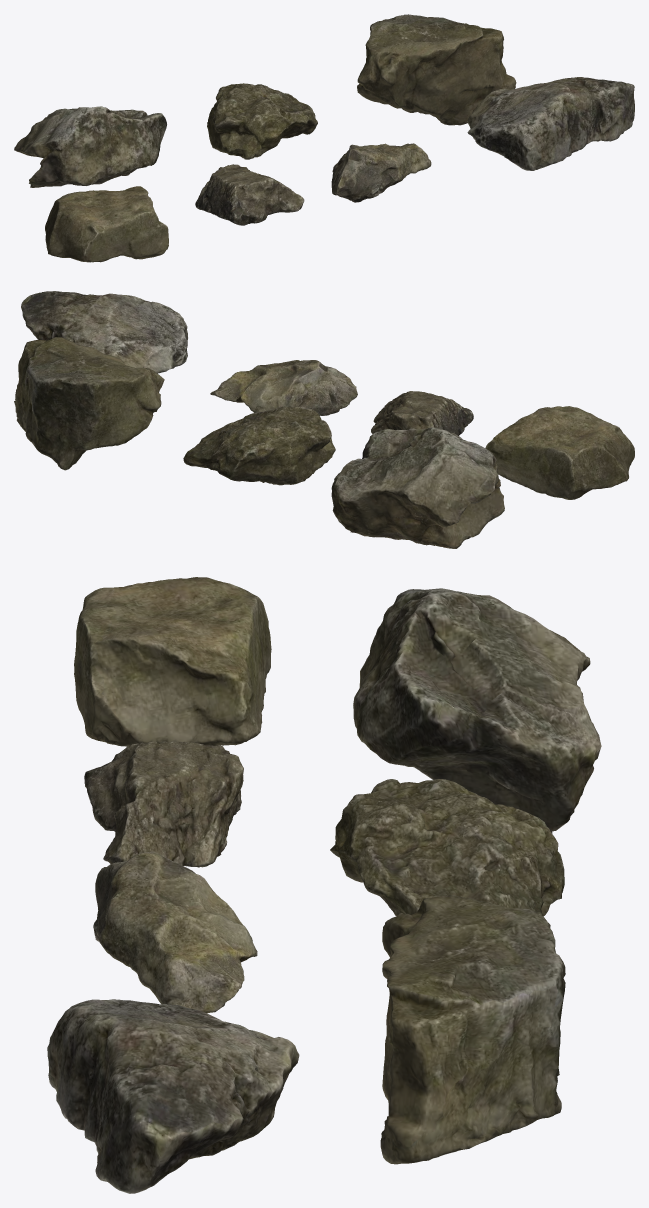
File: rock_moss_set_02.glb
3 views of the same model, one above another, from view 1: azimuth 30°, elevation 25°; view 2: azimuth 150°, elevation 25°; view 3: azimuth 270°, elevation 25° (orthographic). The views are drawn at different scales.
Parts seen in each view (by area): view 1: rock_moss_set_02_rock13, rock_moss_set_02_rock10, rock_moss_set_02_rock11, rock_moss_set_02_rock07, rock_moss_set_02_rock12, rock_moss_set_02_rock08, rock_moss_set_02_rock09; view 2: rock_moss_set_02_rock11, rock_moss_set_02_rock13, rock_moss_set_02_rock07, rock_moss_set_02_rock10, rock_moss_set_02_rock12, rock_moss_set_02_rock09, rock_moss_set_02_rock08; view 3: rock_moss_set_02_rock13, rock_moss_set_02_rock11, rock_moss_set_02_rock10, rock_moss_set_02_rock07, rock_moss_set_02_rock12, rock_moss_set_02_rock09, rock_moss_set_02_rock08.
Part boxes in pixels (x1=…): rock_moss_set_02_rock13: x1=357, y1=14, x2=516, y2=125; rock_moss_set_02_rock10: x1=467, y1=77, x2=634, y2=170; rock_moss_set_02_rock11: x1=14, y1=106, x2=166, y2=187; rock_moss_set_02_rock07: x1=45, y1=186, x2=168, y2=262; rock_moss_set_02_rock12: x1=207, y1=83, x2=317, y2=159; rock_moss_set_02_rock08: x1=195, y1=164, x2=304, y2=225; rock_moss_set_02_rock09: x1=331, y1=143, x2=431, y2=202; rock_moss_set_02_rock11: x1=331, y1=427, x2=504, y2=548; rock_moss_set_02_rock13: x1=14, y1=337, x2=164, y2=470; rock_moss_set_02_rock07: x1=485, y1=406, x2=634, y2=499; rock_moss_set_02_rock10: x1=21, y1=291, x2=187, y2=373; rock_moss_set_02_rock12: x1=183, y1=406, x2=335, y2=485; rock_moss_set_02_rock09: x1=210, y1=360, x2=357, y2=415; rock_moss_set_02_rock08: x1=371, y1=391, x2=473, y2=435; rock_moss_set_02_rock13: x1=380, y1=895, x2=565, y2=1164; rock_moss_set_02_rock11: x1=353, y1=588, x2=601, y2=833; rock_moss_set_02_rock10: x1=47, y1=999, x2=299, y2=1193; rock_moss_set_02_rock07: x1=74, y1=577, x2=271, y2=746; rock_moss_set_02_rock12: x1=330, y1=779, x2=564, y2=927; rock_moss_set_02_rock09: x1=93, y1=851, x2=257, y2=1013; rock_moss_set_02_rock08: x1=84, y1=741, x2=243, y2=867.
Size of the model in its own units: 8.28 by 1.37 by 3.41.
Materials: 1 (1 with a texture image).
